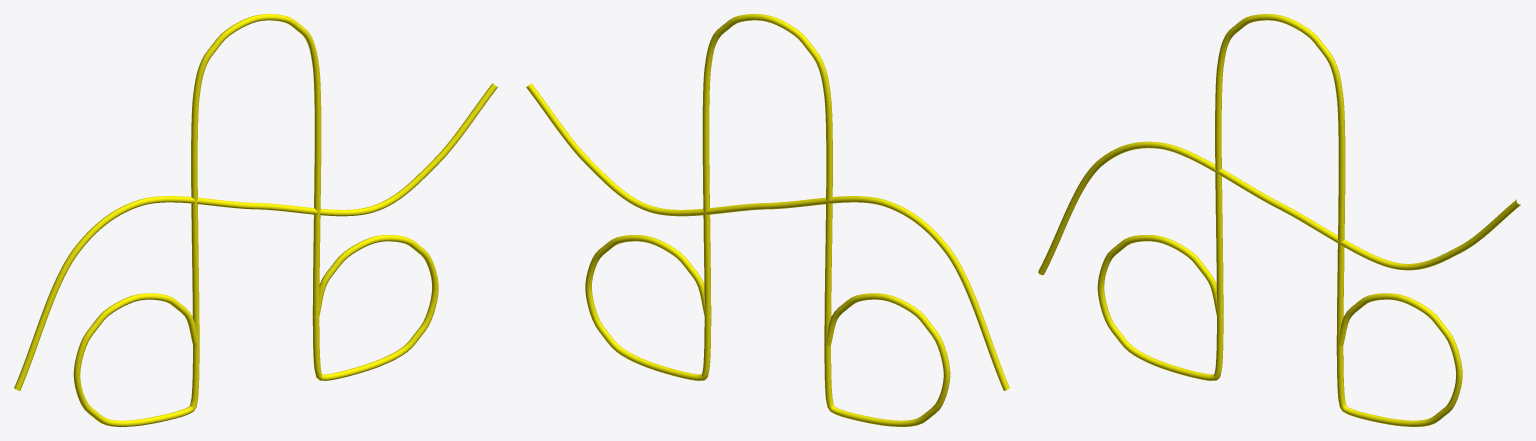
The picture shows the model from 3 angles, left to right: view 1: azimuth 30°, elevation 25°; view 2: azimuth 150°, elevation 25°; view 3: azimuth 330°, elevation 25°; orthographic projection.
Visible parts, largest first — view 1: Tube (×2); view 2: Tube (×2); view 3: Tube (×2).
Part boxes in pixels (x1,y1,x2,y2): Tube (×2): (14,14,497,426); Tube (×2): (526,14,1009,426); Tube (×2): (1038,14,1520,426).
Bounding box in the file's own units: 8.08 × 6.13 × 0.1.
